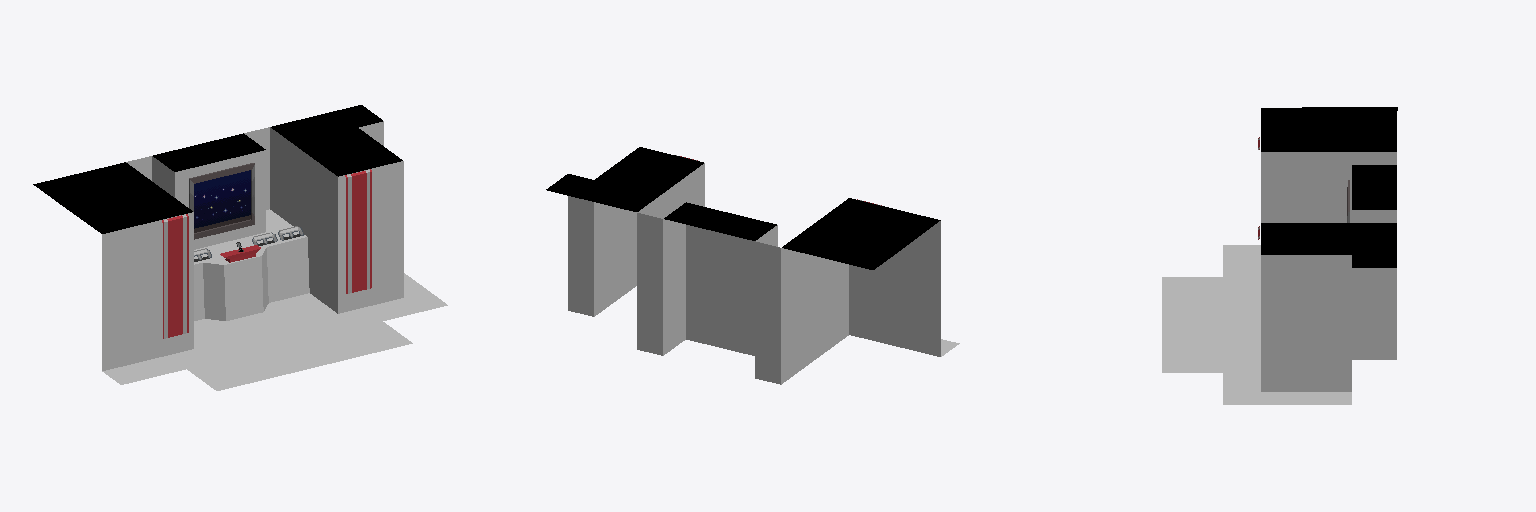
3 renders of one model, left to right at view 1: azimuth 30°, elevation 25°; view 2: azimuth 150°, elevation 25°; view 3: azimuth 270°, elevation 25°, orthographic.
Visible parts, largest first — view 1: m_dun2609_00_00c; view 2: m_dun2609_00_00c; view 3: m_dun2609_00_00c.
Boxes of the visible parts, x1,y1,x2,y2 form: m_dun2609_00_00c: [33, 105, 447, 390]; m_dun2609_00_00c: [546, 147, 959, 384]; m_dun2609_00_00c: [1162, 107, 1397, 404].
Bounding box in the file's own units: 401 × 160 × 249.
9 materials, 6 textured.